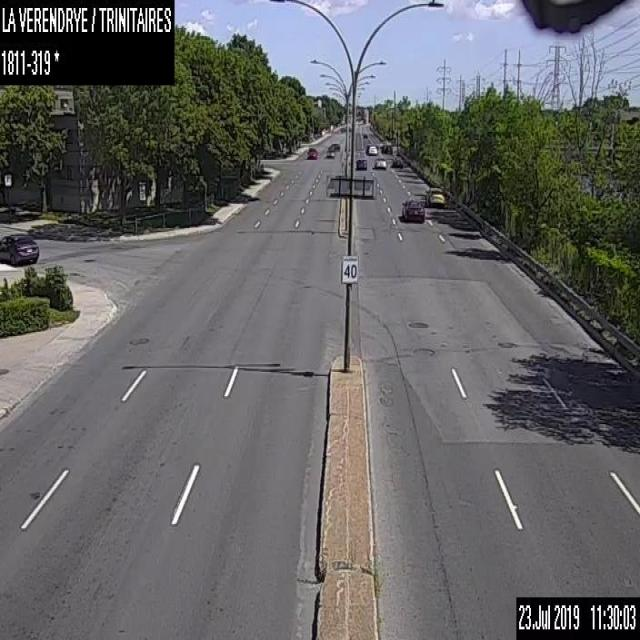vehicle: (0, 230, 38, 266), (400, 198, 424, 221), (424, 186, 444, 206), (391, 154, 403, 167), (374, 157, 386, 168), (355, 158, 366, 170), (306, 146, 316, 158), (327, 142, 339, 150), (367, 144, 377, 153), (381, 144, 392, 152), (325, 148, 334, 157), (362, 132, 367, 138)
